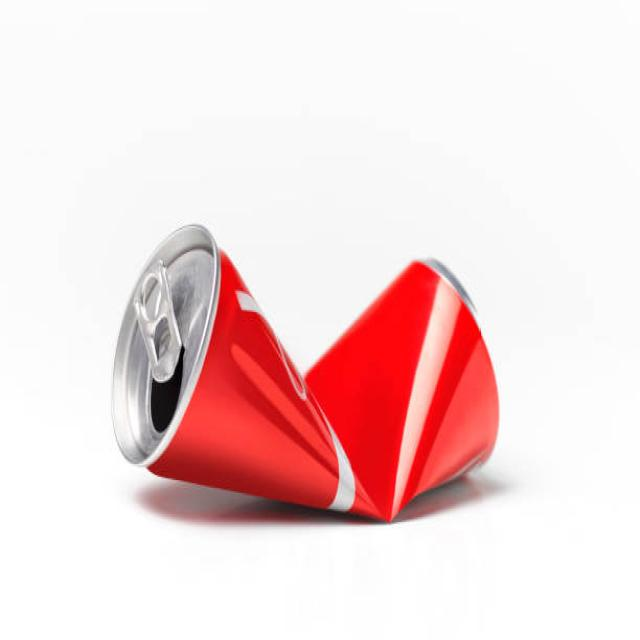aluminum_can: (112, 226, 500, 521)
